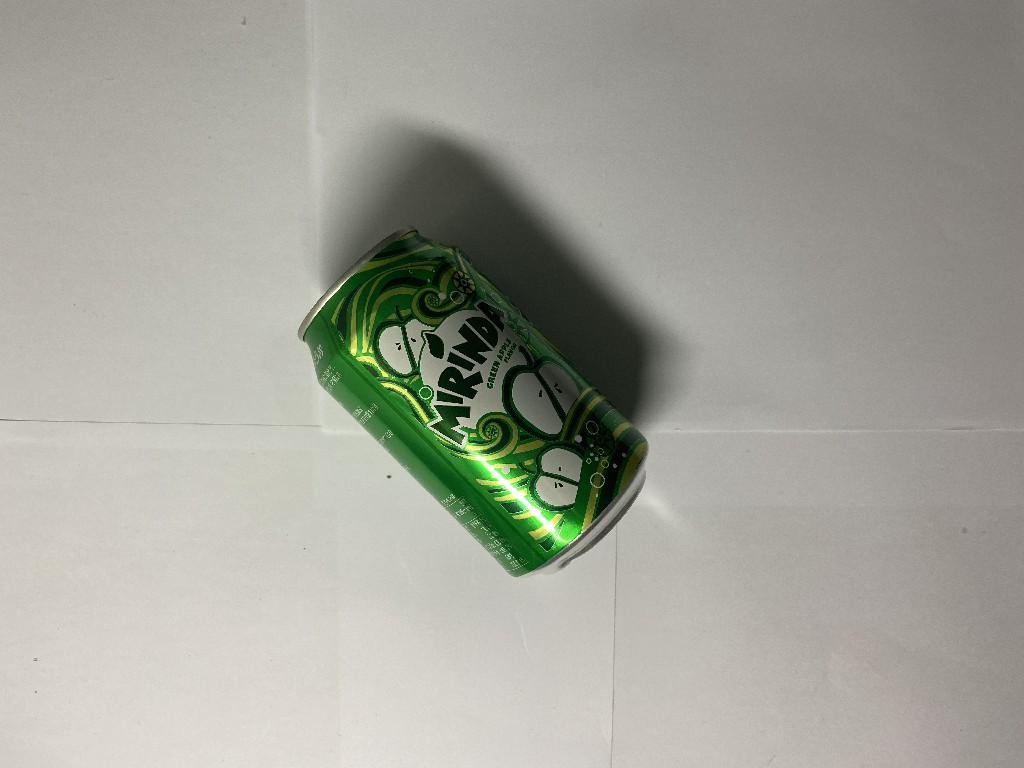can: (294, 225, 653, 583)
